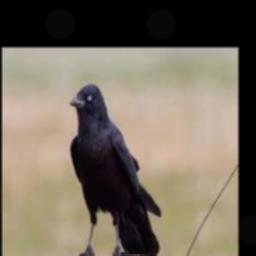Crow: (68, 83, 161, 256)
